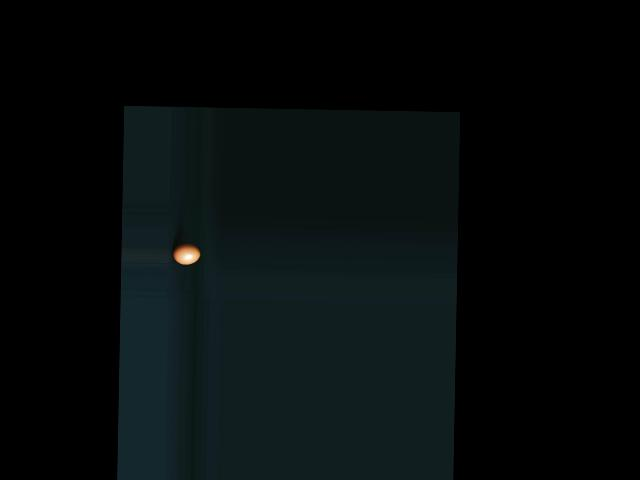egg: (172, 242, 200, 264)
